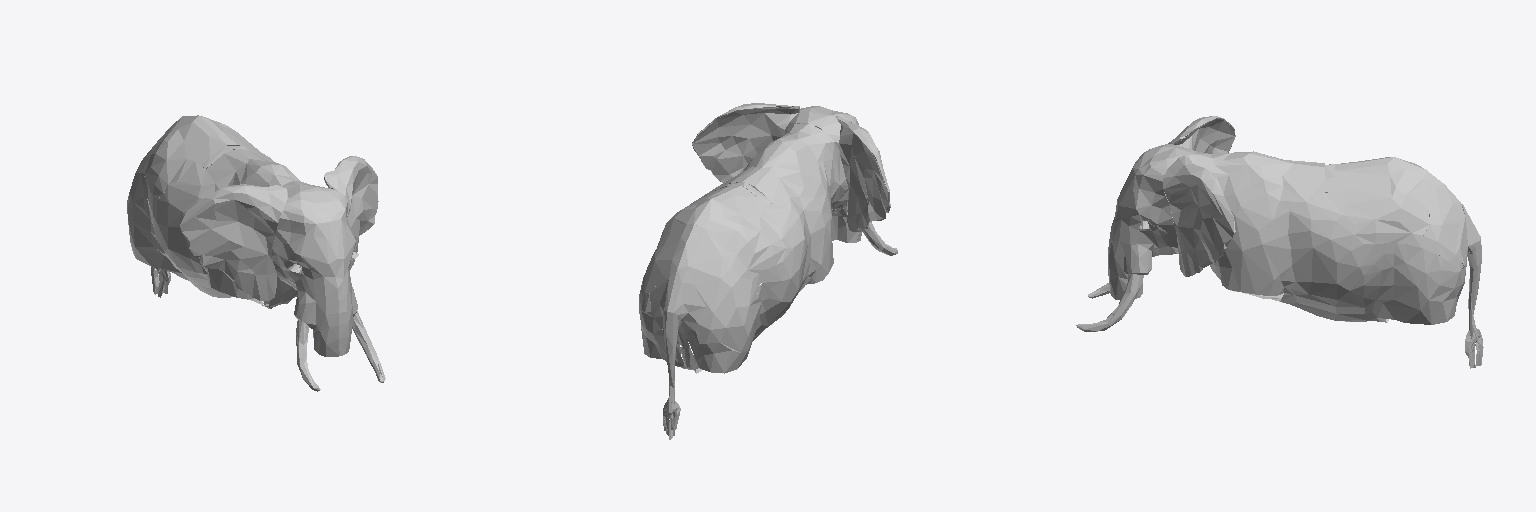
The model's file is elefante_cuerpo - copia.obj.
3 renders of one model, left to right at view 1: azimuth 30°, elevation 25°; view 2: azimuth 150°, elevation 25°; view 3: azimuth 270°, elevation 25°, orthographic.
Visible parts, largest first — view 1: Cuerpo_elefante; view 2: Cuerpo_elefante; view 3: Cuerpo_elefante.
Boxes of the visible parts, <box> form: Cuerpo_elefante: <box>127,115,385,391</box>; Cuerpo_elefante: <box>639,103,897,439</box>; Cuerpo_elefante: <box>1076,116,1483,368</box>.
Size of the model in its own units: 2.31 by 2.48 by 4.1.